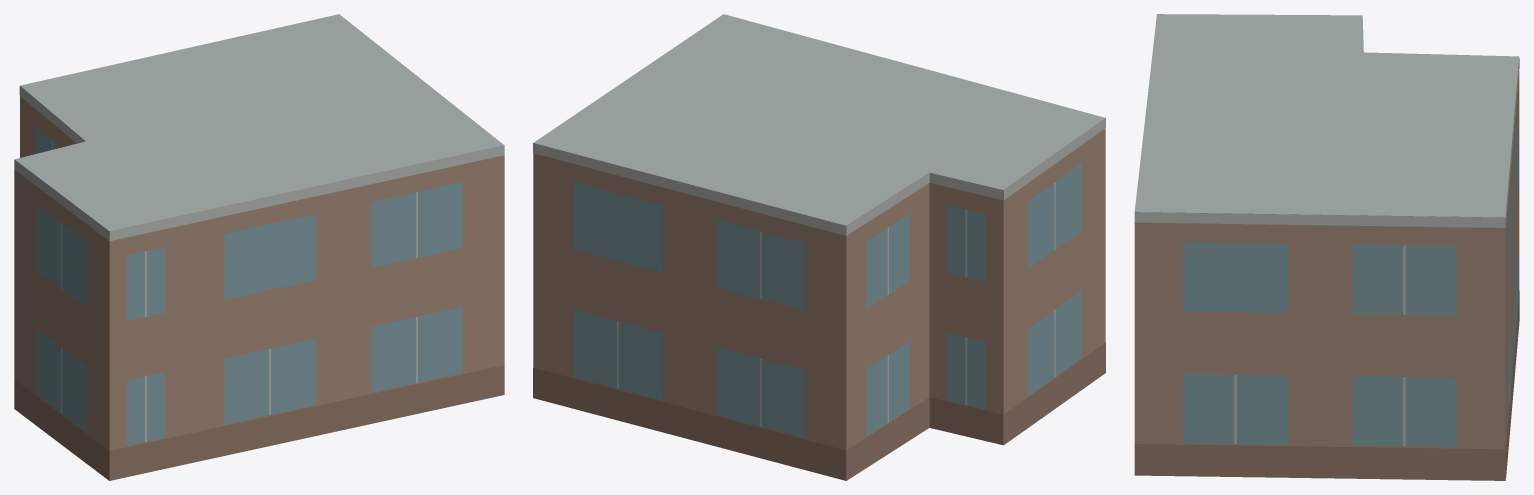
The model's file is survey-upis-32806781.glb.
The picture shows the model from 3 angles, left to right: view 1: azimuth 30°, elevation 25°; view 2: azimuth 150°, elevation 25°; view 3: azimuth 270°, elevation 25°; orthographic projection. The views are drawn at different scales.
Visible parts, largest first — view 1: survey-upis-32806781.tmp; view 2: survey-upis-32806781.tmp; view 3: survey-upis-32806781.tmp.
Boxes of the visible parts, x1,y1,x2,y2 form: survey-upis-32806781.tmp: (14,14,504,480); survey-upis-32806781.tmp: (533,14,1105,480); survey-upis-32806781.tmp: (1134,14,1519,480).
Bounding box in the file's own units: 10.11 × 6.1 × 8.09.
